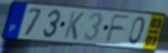0: (128, 16, 147, 46)
3: (83, 12, 105, 44), (42, 9, 62, 40)
7: (24, 7, 44, 37)
F: (104, 14, 132, 44)
K: (63, 10, 86, 41)
